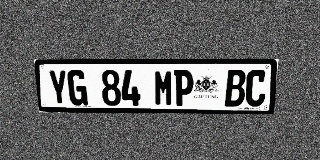4: (121, 70, 141, 106)
8: (101, 70, 121, 106)
B: (225, 70, 246, 106)
C: (245, 70, 267, 107)
G: (67, 70, 88, 106)
M: (154, 70, 173, 106)
P: (174, 70, 194, 106)
Y: (47, 70, 69, 105)
